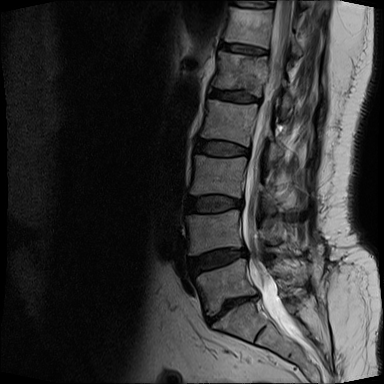Degenerative Disc Disease (DDD): (201, 285, 261, 333)
Lumbar Disc Bulge (LDB): (179, 234, 254, 283)
Normal IVD: (179, 188, 249, 220), (187, 134, 254, 165), (203, 82, 265, 111), (214, 39, 273, 62)
Spinal Stenosis (SS): (233, 241, 259, 268), (254, 285, 269, 310)
